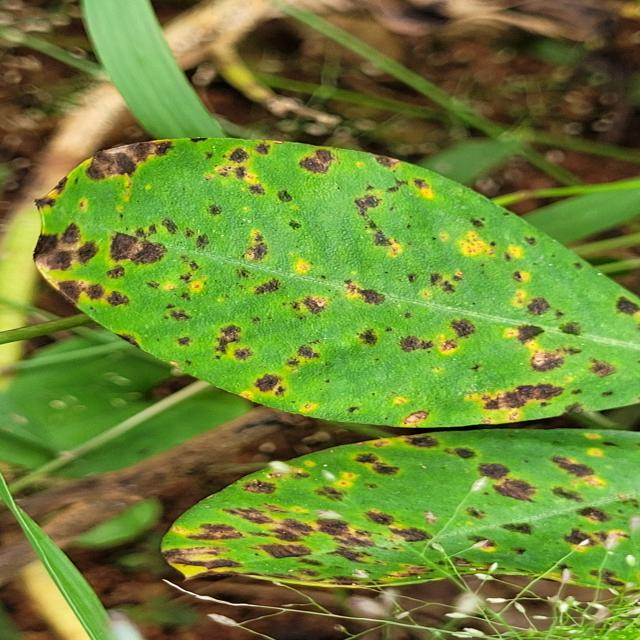Ground nut_tikka leaf spot: (34, 130, 640, 429), (158, 427, 640, 587)
